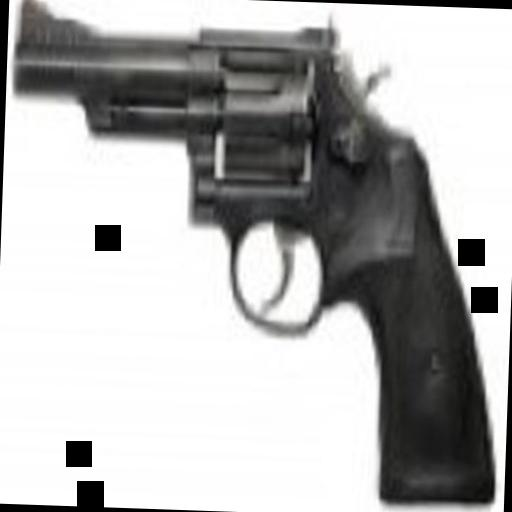Handgun: (2, 0, 512, 510)
